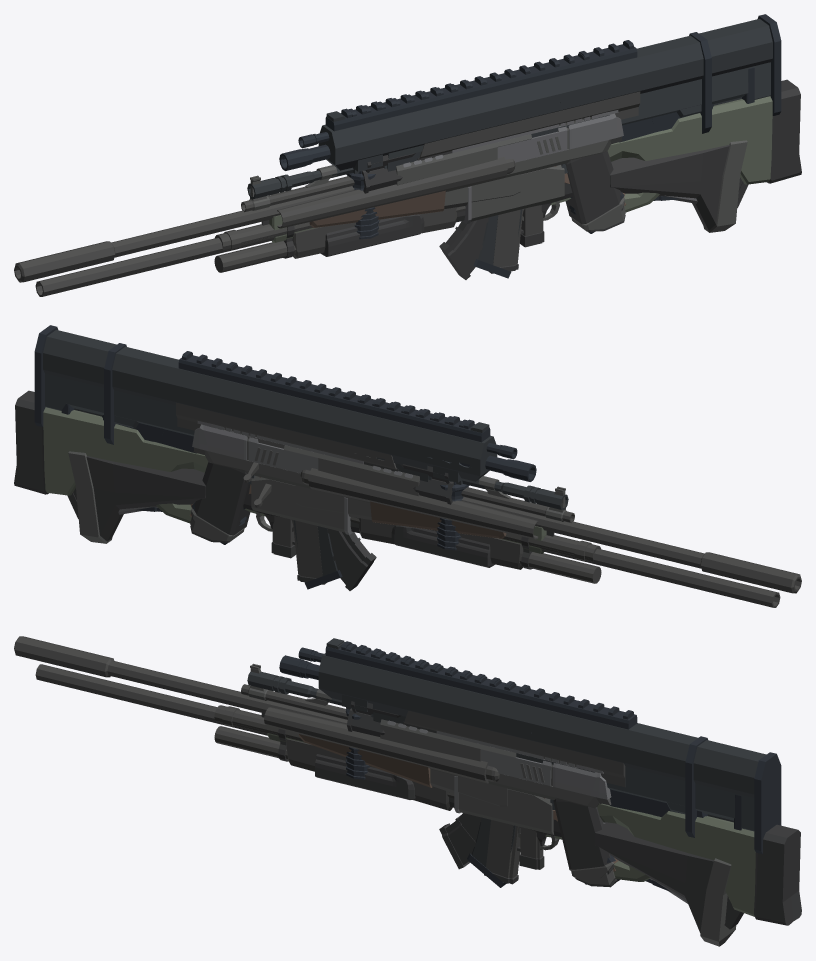
File: guns.glb
3 views of the same model, one above another, from view 1: azimuth 30°, elevation 25°; view 2: azimuth 150°, elevation 25°; view 3: azimuth 330°, elevation 25° (orthographic).
Parts seen in each view (by area): view 1: Gun_Hammer_Mesh, Gun_Longbow_Mesh, Gun_Swift_Mesh, Gun_Thunder_Mesh, Gun_Reaper_Mesh, Gun_Warden_Mesh, Gun_Wasp_Mesh, Gun_Hornet_Mesh, Gun_Kestrel_Mesh, Gun_Brawler_Mesh, Gun_Marksman_Mesh, Gun_Viper_Mesh; view 2: Gun_Hammer_Mesh, Gun_Longbow_Mesh, Gun_Swift_Mesh, Gun_Thunder_Mesh, Gun_Reaper_Mesh, Gun_Warden_Mesh, Gun_Wasp_Mesh, Gun_Hornet_Mesh, Gun_Kestrel_Mesh, Gun_Brawler_Mesh, Gun_Marksman_Mesh, Gun_Viper_Mesh; view 3: Gun_Hammer_Mesh, Gun_Longbow_Mesh, Gun_Swift_Mesh, Gun_Thunder_Mesh, Gun_Reaper_Mesh, Gun_Warden_Mesh, Gun_Wasp_Mesh, Gun_Hornet_Mesh, Gun_Kestrel_Mesh, Gun_Marksman_Mesh, Gun_Brawler_Mesh, Gun_Viper_Mesh.
Part boxes in pixels (box(x1,y1,x2,y2)): Gun_Hammer_Mesh: box(279, 14, 781, 233); Gun_Longbow_Mesh: box(14, 79, 801, 282); Gun_Swift_Mesh: box(35, 140, 747, 296); Gun_Thunder_Mesh: box(214, 165, 697, 272); Gun_Reaper_Mesh: box(277, 157, 626, 228); Gun_Warden_Mesh: box(396, 113, 624, 225); Gun_Wasp_Mesh: box(417, 91, 640, 273); Gun_Hornet_Mesh: box(452, 110, 625, 231); Gun_Kestrel_Mesh: box(283, 32, 711, 239); Gun_Brawler_Mesh: box(241, 101, 729, 279); Gun_Marksman_Mesh: box(247, 67, 754, 278); Gun_Viper_Mesh: box(520, 205, 544, 247); Gun_Hammer_Mesh: box(34, 325, 536, 544); Gun_Longbow_Mesh: box(14, 390, 801, 593); Gun_Swift_Mesh: box(68, 451, 780, 607); Gun_Thunder_Mesh: box(118, 476, 601, 583); Gun_Reaper_Mesh: box(189, 468, 538, 539); Gun_Warden_Mesh: box(191, 424, 419, 536); Gun_Wasp_Mesh: box(176, 402, 398, 584); Gun_Hornet_Mesh: box(190, 421, 363, 542); Gun_Kestrel_Mesh: box(104, 343, 532, 550); Gun_Brawler_Mesh: box(83, 411, 574, 590); Gun_Marksman_Mesh: box(61, 404, 568, 589); Gun_Viper_Mesh: box(271, 516, 295, 558); Gun_Hammer_Mesh: box(279, 638, 781, 929); Gun_Longbow_Mesh: box(14, 636, 801, 925); Gun_Swift_Mesh: box(35, 664, 736, 946); Gun_Thunder_Mesh: box(214, 705, 687, 903); Gun_Reaper_Mesh: box(264, 707, 618, 871); Gun_Warden_Mesh: box(380, 719, 614, 878); Gun_Wasp_Mesh: box(403, 710, 625, 884); Gun_Hornet_Mesh: box(436, 731, 619, 887); Gun_Kestrel_Mesh: box(297, 642, 707, 892); Gun_Marksman_Mesh: box(247, 671, 741, 887); Gun_Brawler_Mesh: box(241, 663, 724, 869); Gun_Viper_Mesh: box(519, 803, 601, 869).
Size of the model in its own units: 1.72 by 0.4445 by 0.1191.
